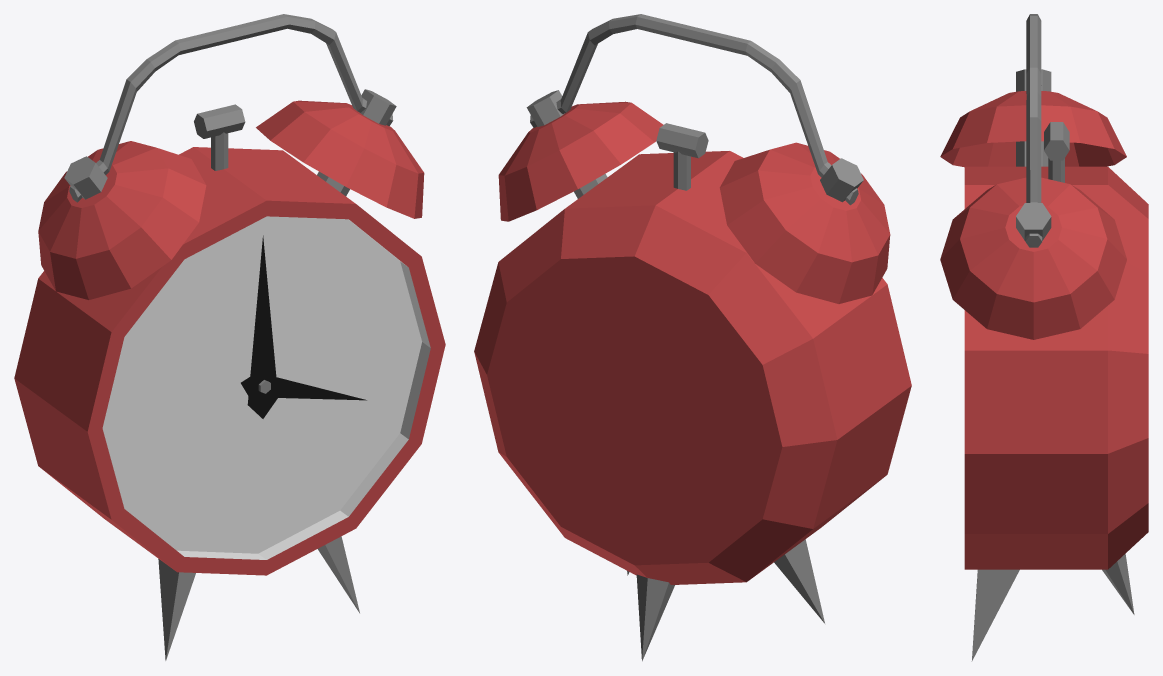
File: Alarm Clock.fbx
3 renders of one model, left to right at view 1: azimuth 30°, elevation 25°; view 2: azimuth 150°, elevation 25°; view 3: azimuth 270°, elevation 25°, orthographic. The views are drawn at different scales.
Parts seen in each view (by area): view 1: Alarm Clock; view 2: Alarm Clock; view 3: Alarm Clock.
Part boxes in pixels (<box>): Alarm Clock: <box>14,14,445,660</box>; Alarm Clock: <box>474,14,911,661</box>; Alarm Clock: <box>940,14,1148,661</box>.
Bounding box in the file's own units: 24.86 × 38.4 × 12.66.
